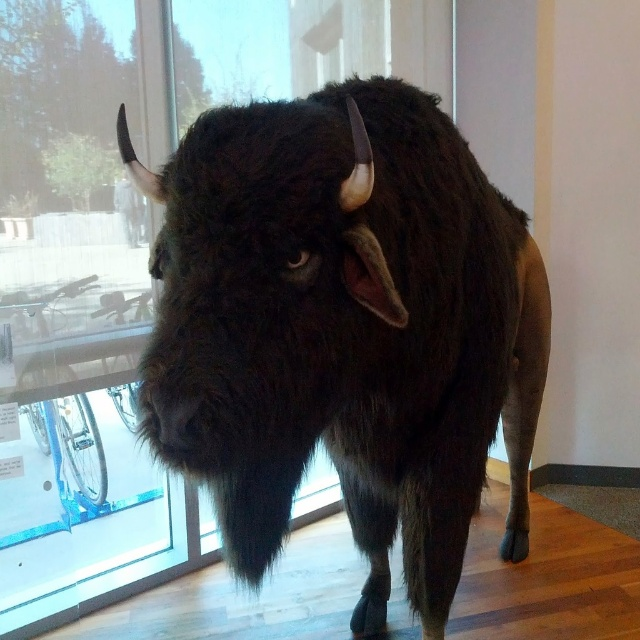Bull: (115, 71, 552, 640)
